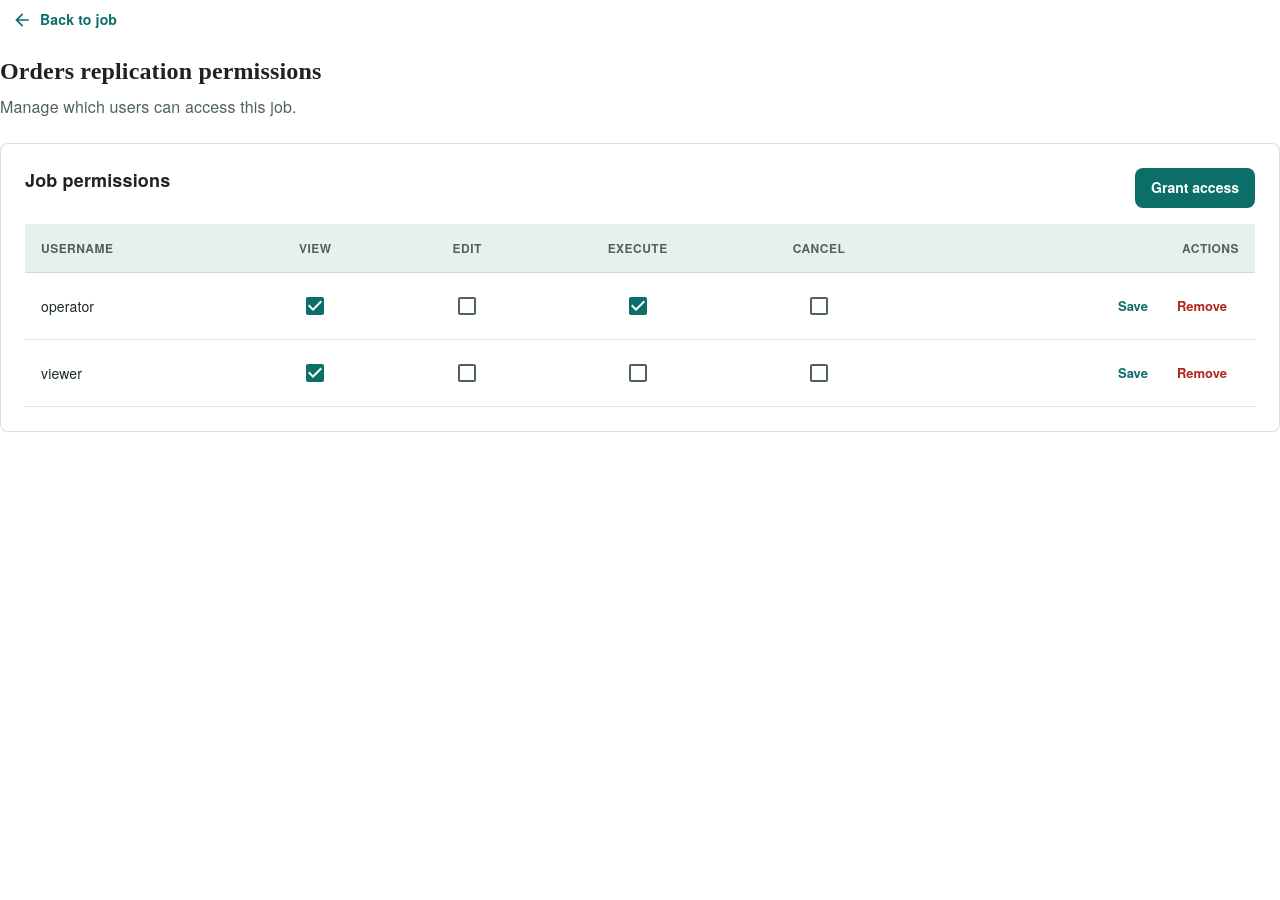
Test: JobPermissionsPage › grants access to a new user and requests the documented user limit
Click the button "Grant access" at [1195, 188], box [1135,168,1255,208]
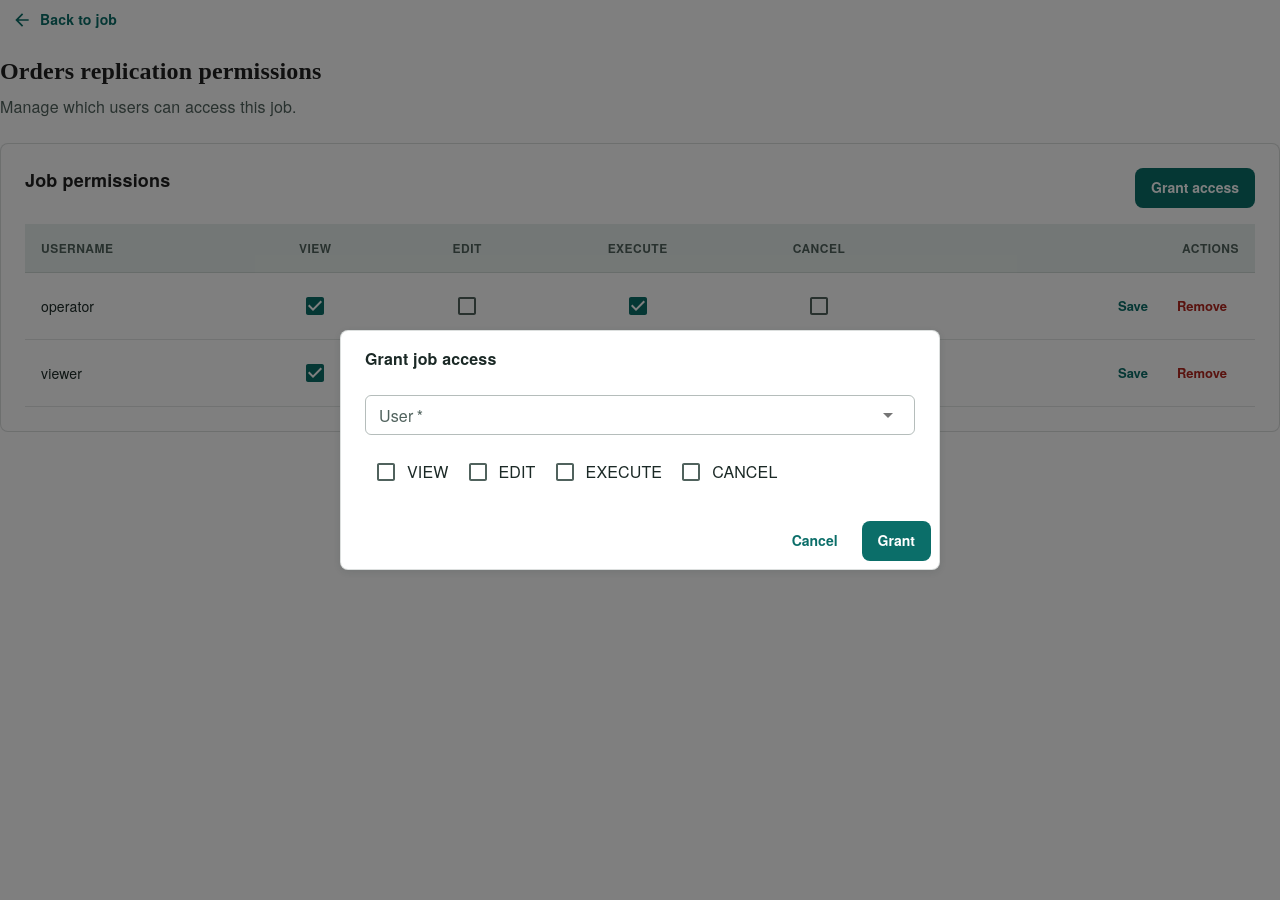
Press the mouse on the dropdown labelled "User" at [624, 415], box [371,401,876,429]
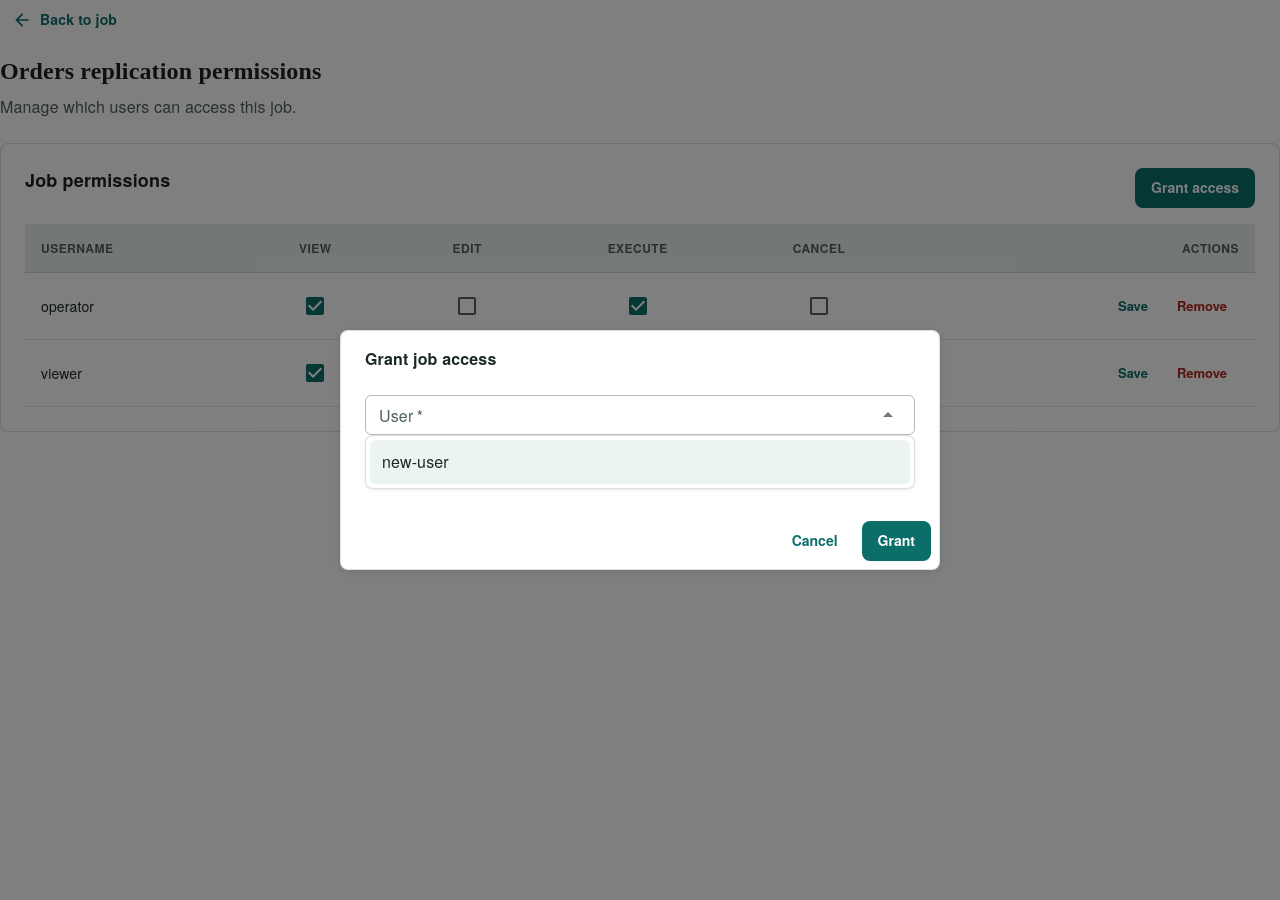
Click the option "new-user" at [415, 462], box [370,440,910,484]
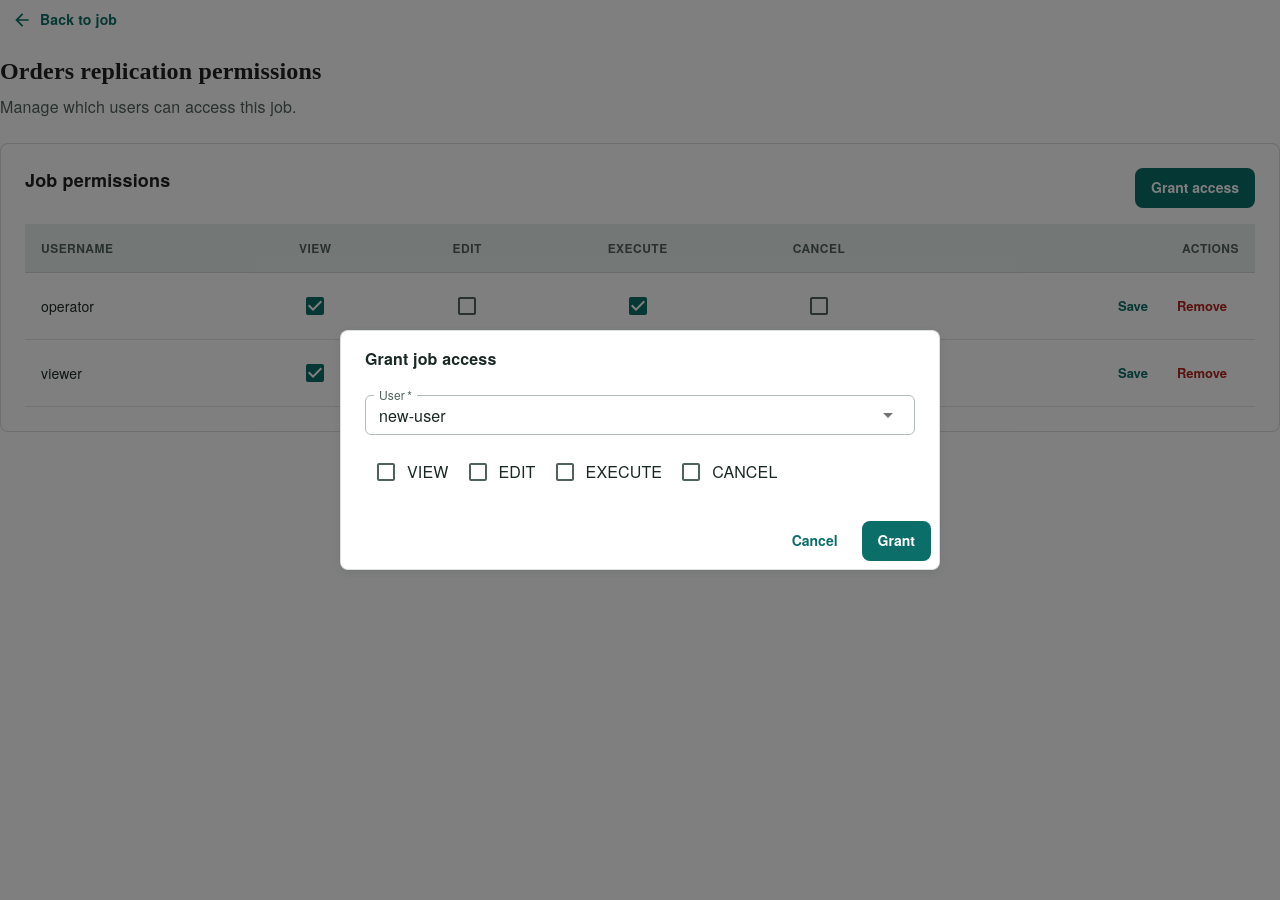
Click the 9th checkbox labelled "VIEW" at [411, 472], box [374,460,448,484]
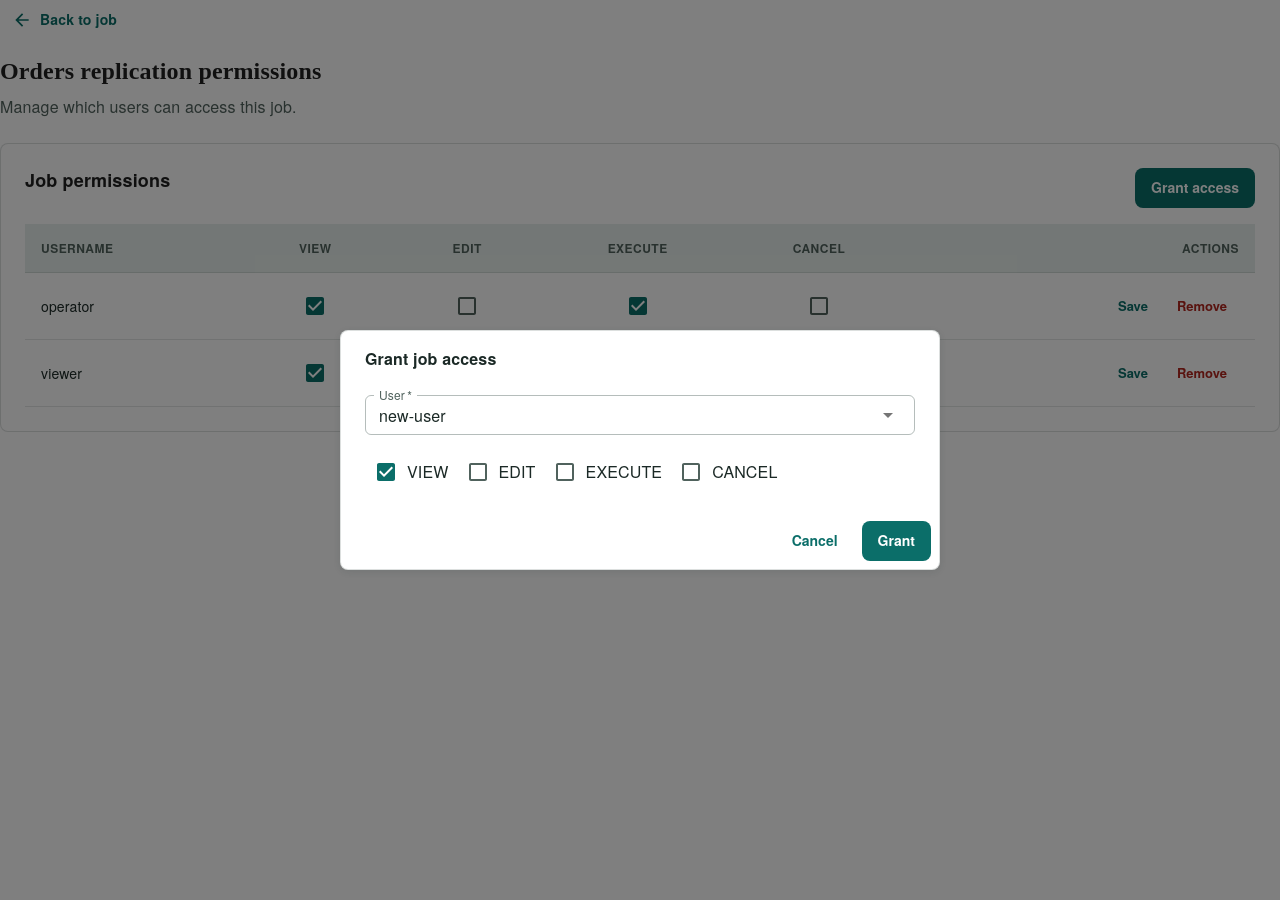
Click the button "Grant" at [896, 541], box [862,521,931,561]
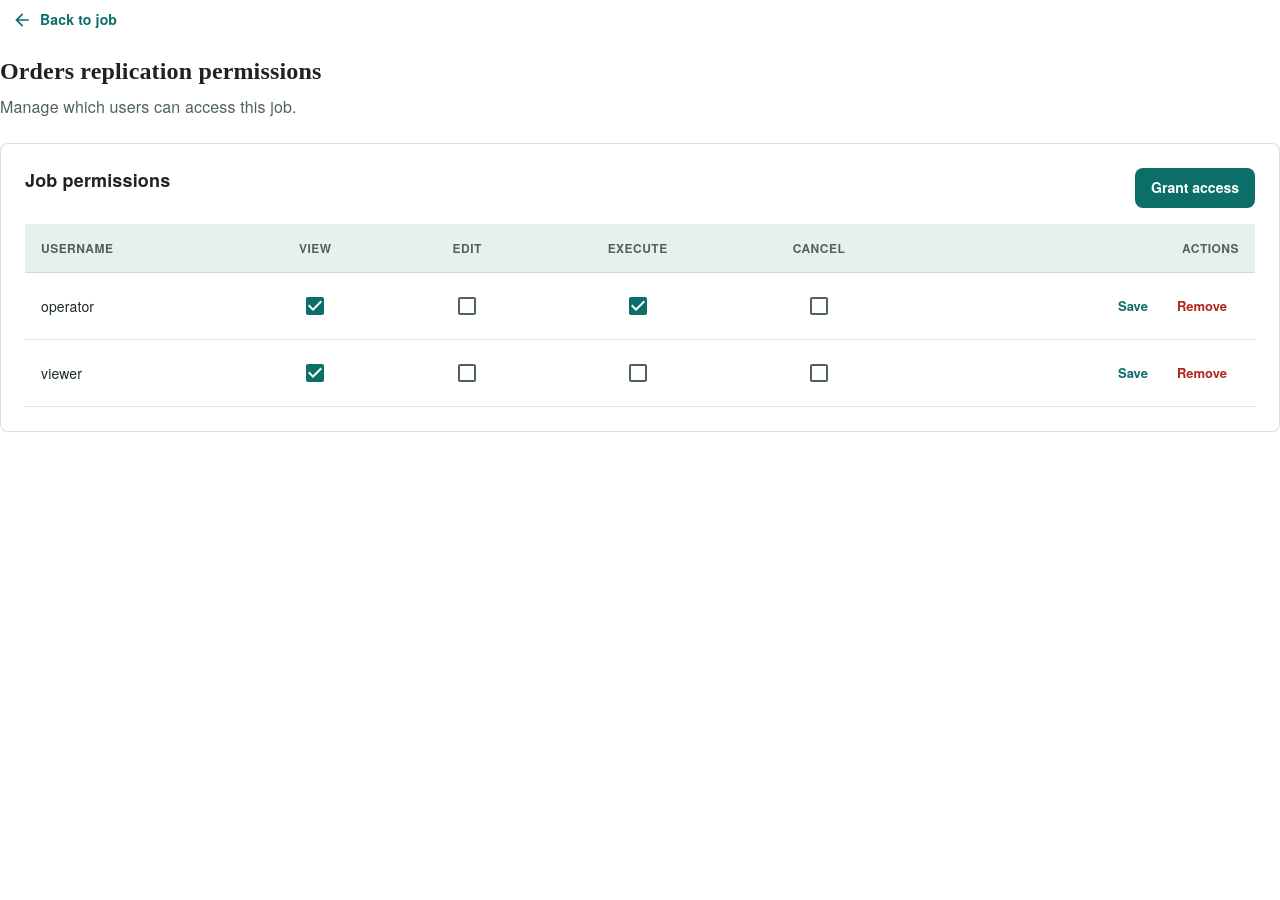
Result: the dialog is gone
